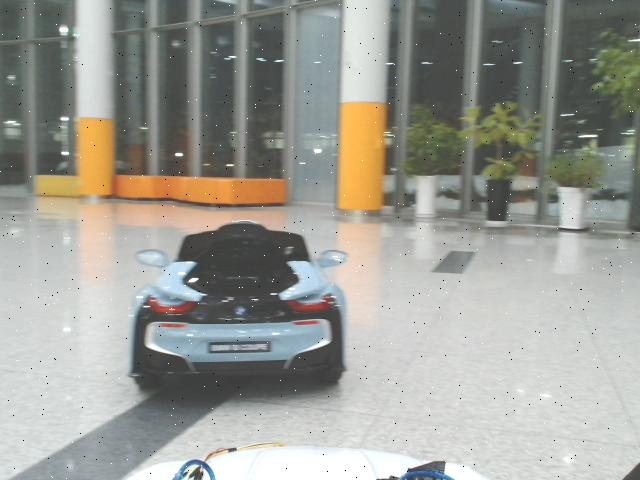car: (128, 220, 352, 389)
